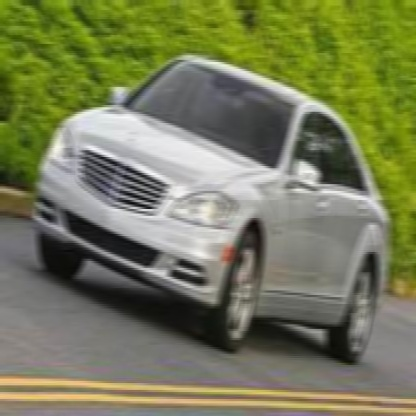Vehicle: (33, 45, 392, 369)
